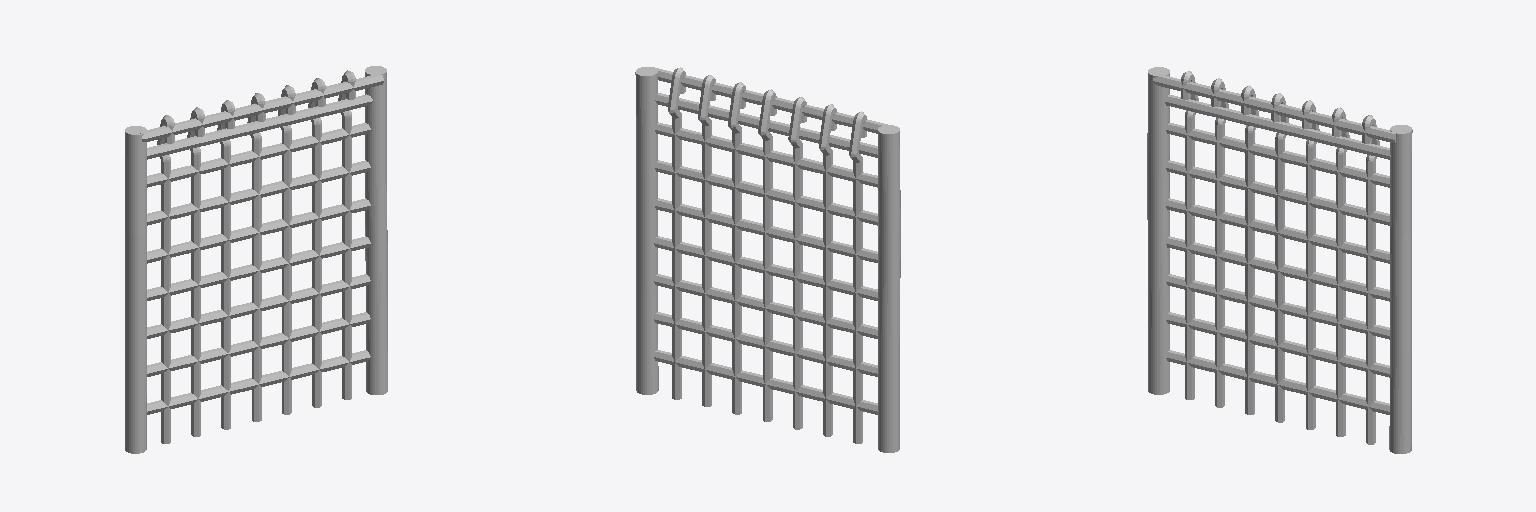
File: fence_.obj
3 views of the same model, side by side, from view 1: azimuth 30°, elevation 25°; view 2: azimuth 150°, elevation 25°; view 3: azimuth 330°, elevation 25° (orthographic).
Visible parts, largest first — view 1: fence, pole; view 2: fence, pole; view 3: fence, pole.
Boxes of the visible parts, x1=… form: fence: x1=139, y1=70, x2=383, y2=443; pole: x1=125, y1=66, x2=387, y2=453; fence: x1=652, y1=67, x2=892, y2=443; pole: x1=635, y1=67, x2=900, y2=452; fence: x1=1153, y1=71, x2=1395, y2=444; pole: x1=1147, y1=67, x2=1412, y2=453.
Size of the model in its own units: 1.08 by 1.3 by 0.0982.